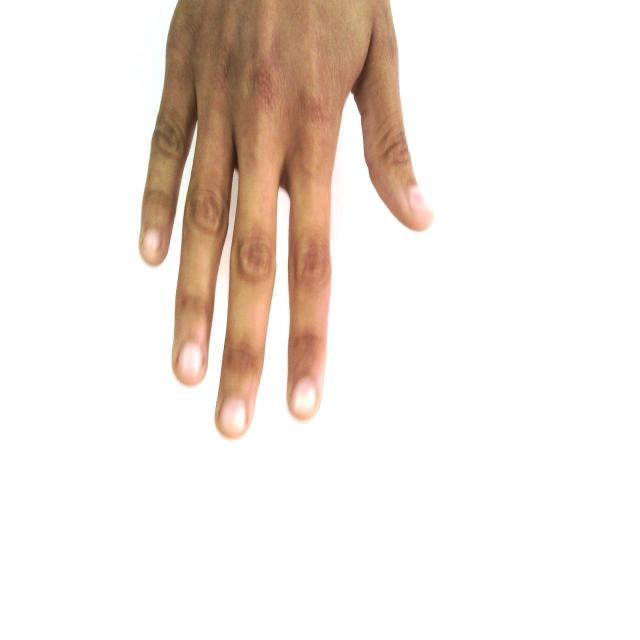Fingernail: (220, 400, 246, 435), (292, 380, 316, 416), (179, 344, 202, 381), (409, 187, 430, 214), (143, 230, 161, 258)
